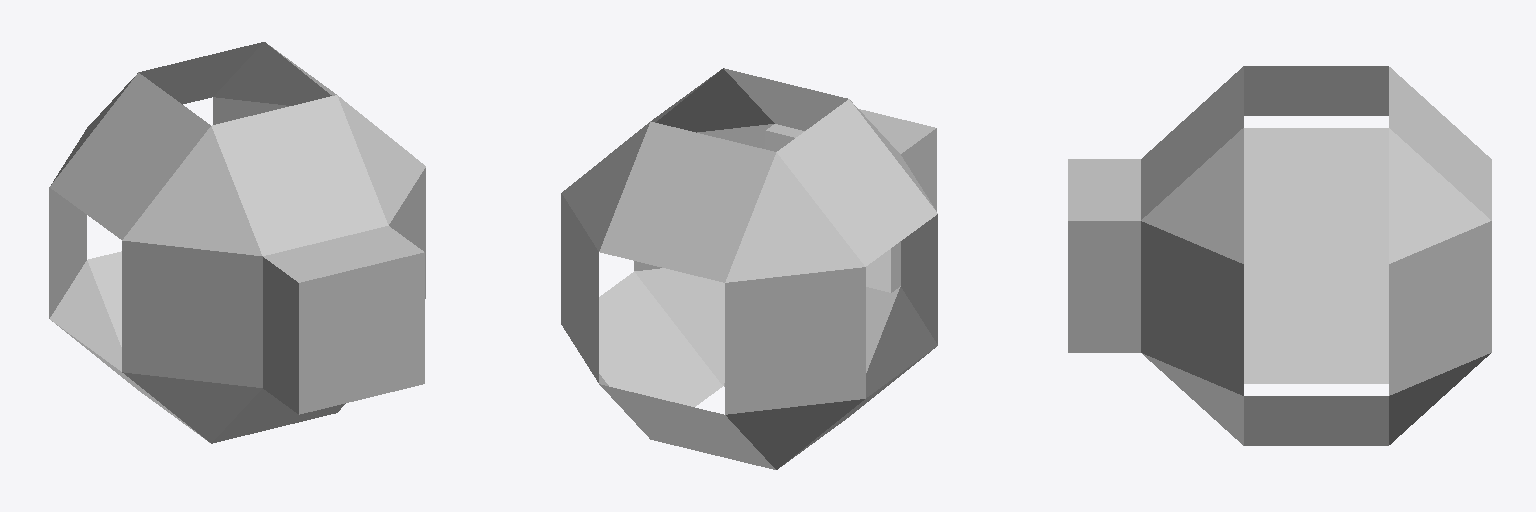
Rendered from okten.obj.
3 renders of one model, left to right at view 1: azimuth 30°, elevation 25°; view 2: azimuth 150°, elevation 25°; view 3: azimuth 270°, elevation 25°, orthographic.
Parts seen in each view (by area): view 1: okten_main, okten_connector; view 2: okten_main, okten_connector; view 3: okten_main, okten_connector.
Boxes of the visible parts, box(x1,y1,x2,y2) form: okten_main: box(49, 42, 425, 443); okten_connector: box(263, 226, 424, 414); okten_main: box(561, 68, 937, 469); okten_connector: box(765, 109, 936, 292); okten_main: box(1141, 66, 1491, 445); okten_connector: box(1068, 159, 1140, 352).
Size of the model in its own units: 7.08 by 7.07 by 8.54.